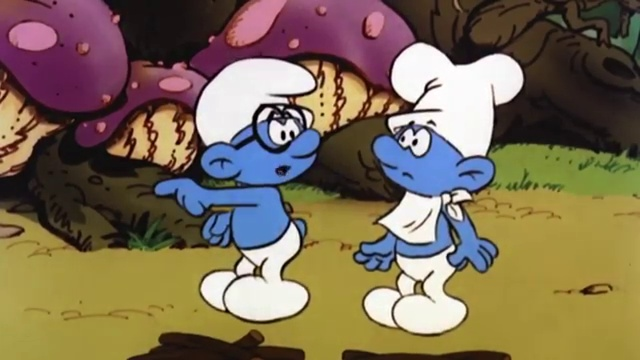smurf: (352, 40, 524, 337), (153, 55, 319, 325)
